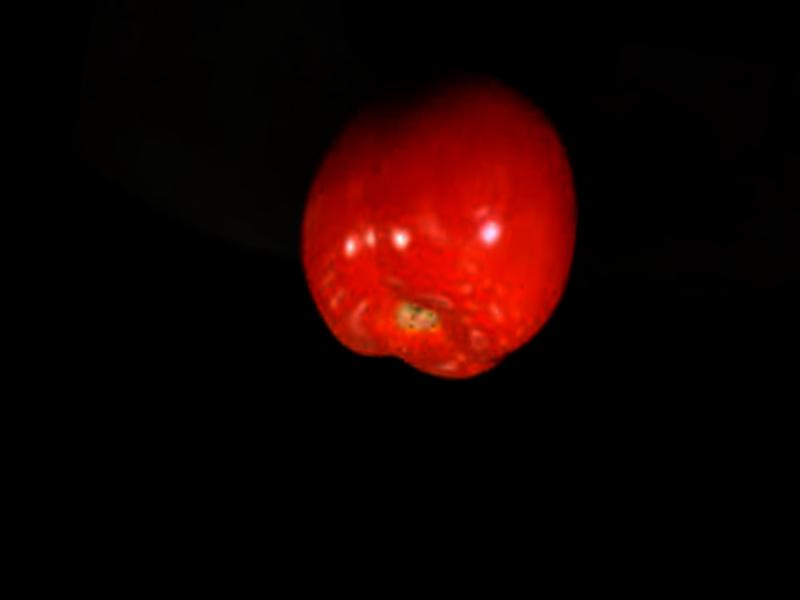Tomato: (278, 46, 604, 401)
